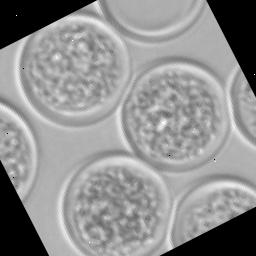picoshell: (13, 11, 131, 127), (115, 60, 228, 172), (117, 60, 228, 172), (56, 150, 169, 256), (165, 174, 256, 249), (93, 0, 205, 42), (0, 102, 37, 200), (225, 65, 256, 150)
